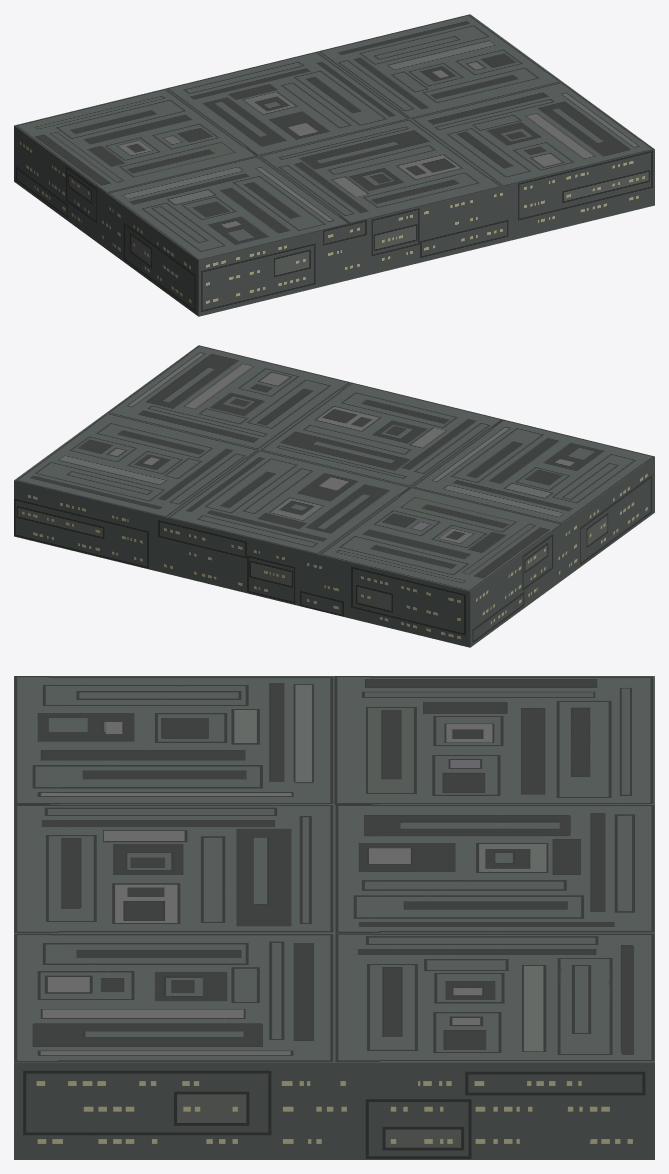
The model's file is lowBuilding.obj.
3 renders of one model, top to bottom at view 1: azimuth 30°, elevation 25°; view 2: azimuth 150°, elevation 25°; view 3: azimuth 270°, elevation 25°, orthographic. The views are drawn at different scales.
Parts seen in each view (by area): view 1: obj.lowBuilding.000_Cylinder; view 2: obj.lowBuilding.000_Cylinder; view 3: obj.lowBuilding.000_Cylinder.
Boxes of the visible parts, bbox=[...] form: obj.lowBuilding.000_Cylinder: bbox=[14, 14, 654, 316]; obj.lowBuilding.000_Cylinder: bbox=[14, 345, 654, 647]; obj.lowBuilding.000_Cylinder: bbox=[14, 676, 654, 1159].
Bounding box in the file's own units: 64.78 × 7.61 × 45.4.
